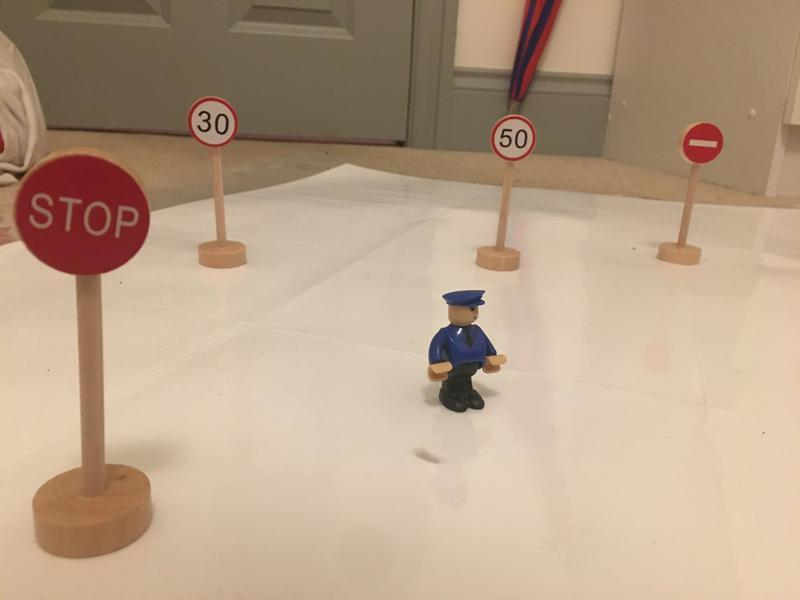Traffic_Sign_30: (189, 97, 235, 147)
Traffic_Sign_50: (491, 115, 537, 161)
Traffic_Sign_No_Entry: (683, 122, 723, 164)
Traffic_Sign_Stop: (16, 153, 147, 275)
person: (425, 287, 507, 414)
